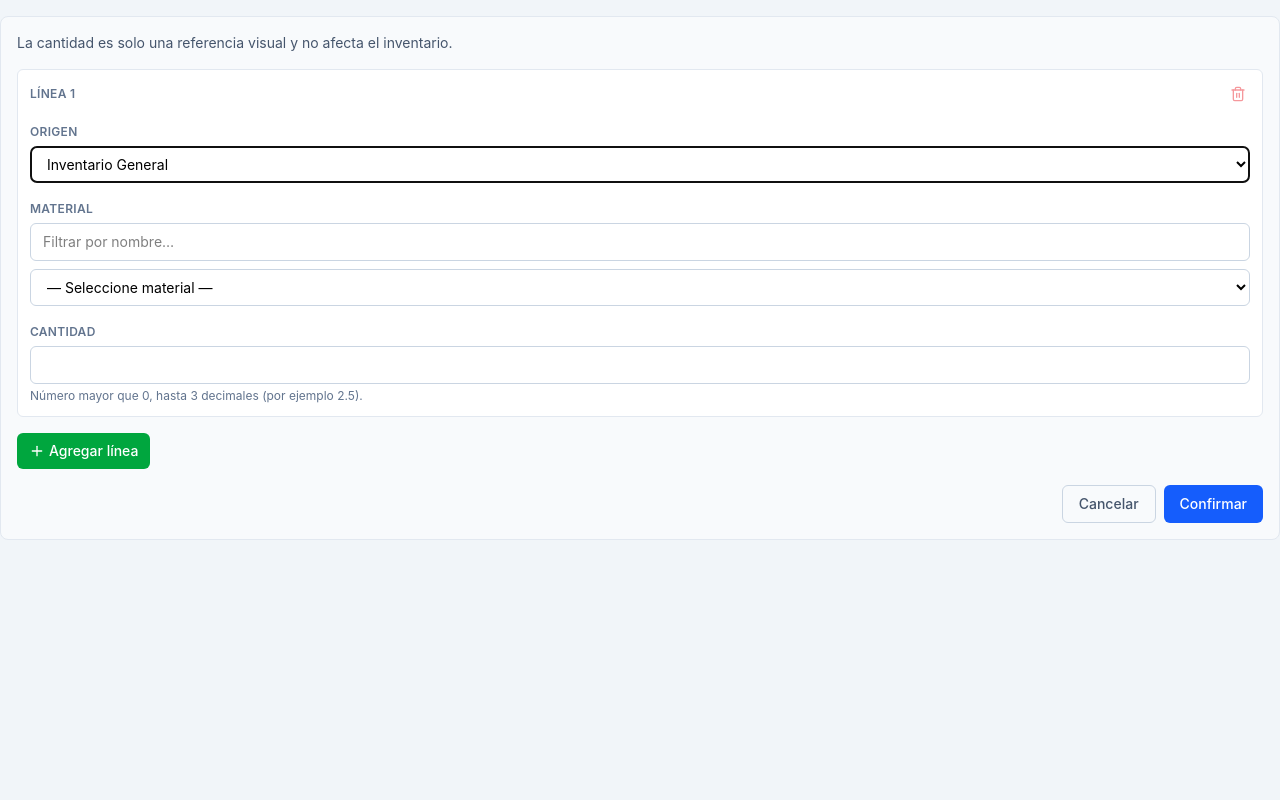
Test: ReferenciaAgregarForm — validación (REQ-REF-006/007) › vacío: errores por campo y SIN mutación
This screenshot has width=1280, height=800.
Step 1. Click the button "Confirmar" → (1213, 504), box left=1164, top=485, right=1263, bottom=523
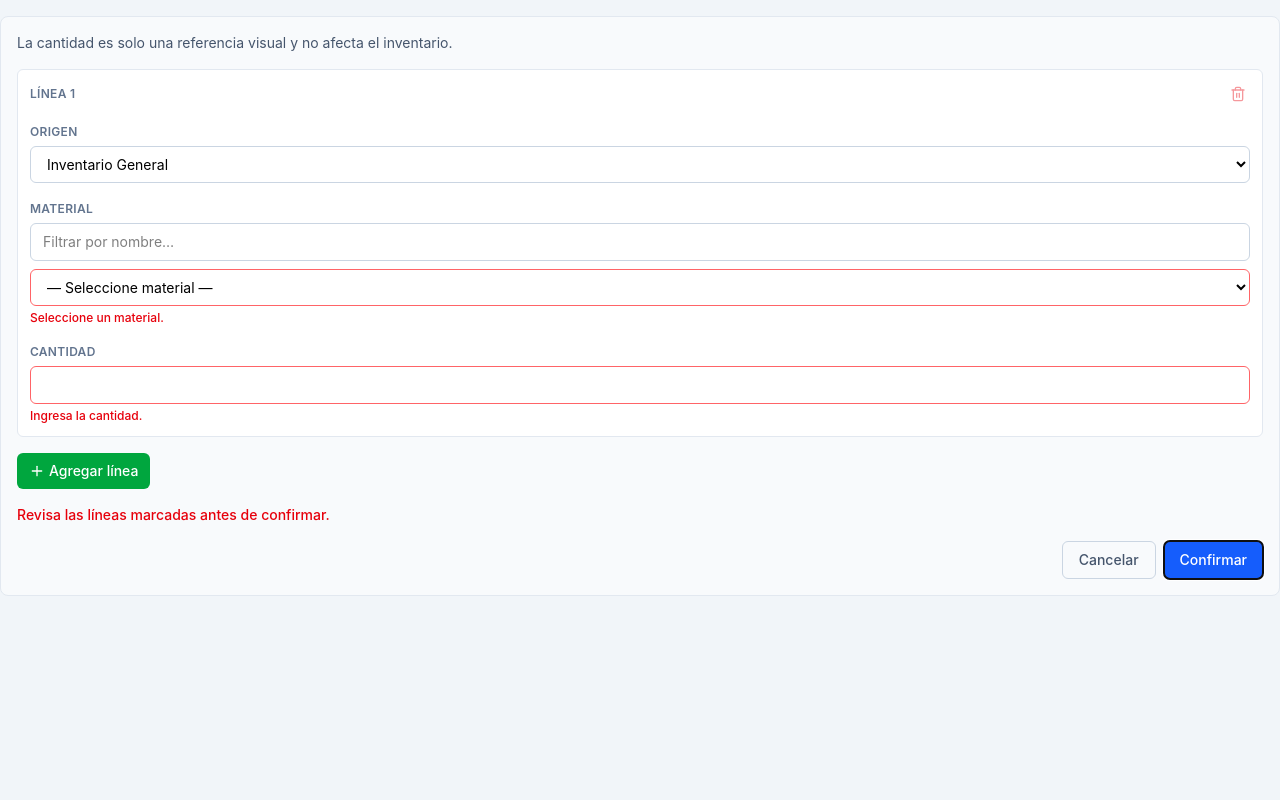
Check: the text "Seleccione un material." is shown, box left=30, top=310, right=164, bottom=325
Check: the text "Ingresa la cantidad." is shown, box left=30, top=408, right=142, bottom=423
Check: the text "Revisa las líneas marcadas antes de confirmar." is shown, box left=17, top=506, right=330, bottom=523
